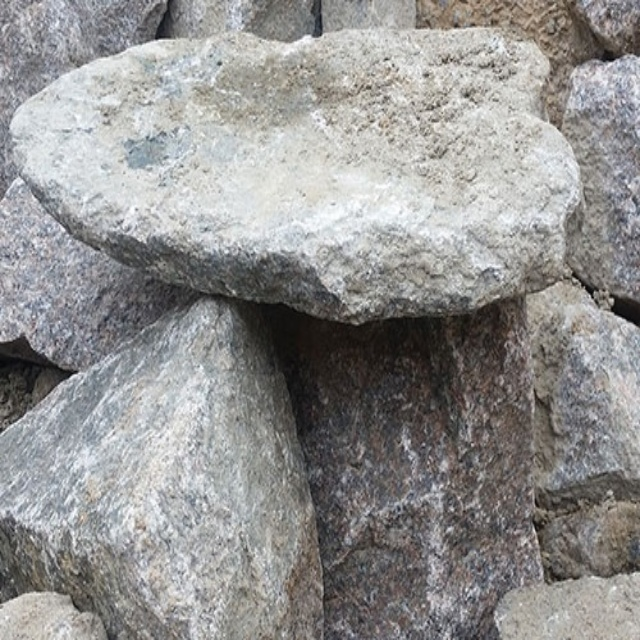obstacle: (0, 29, 579, 637)
